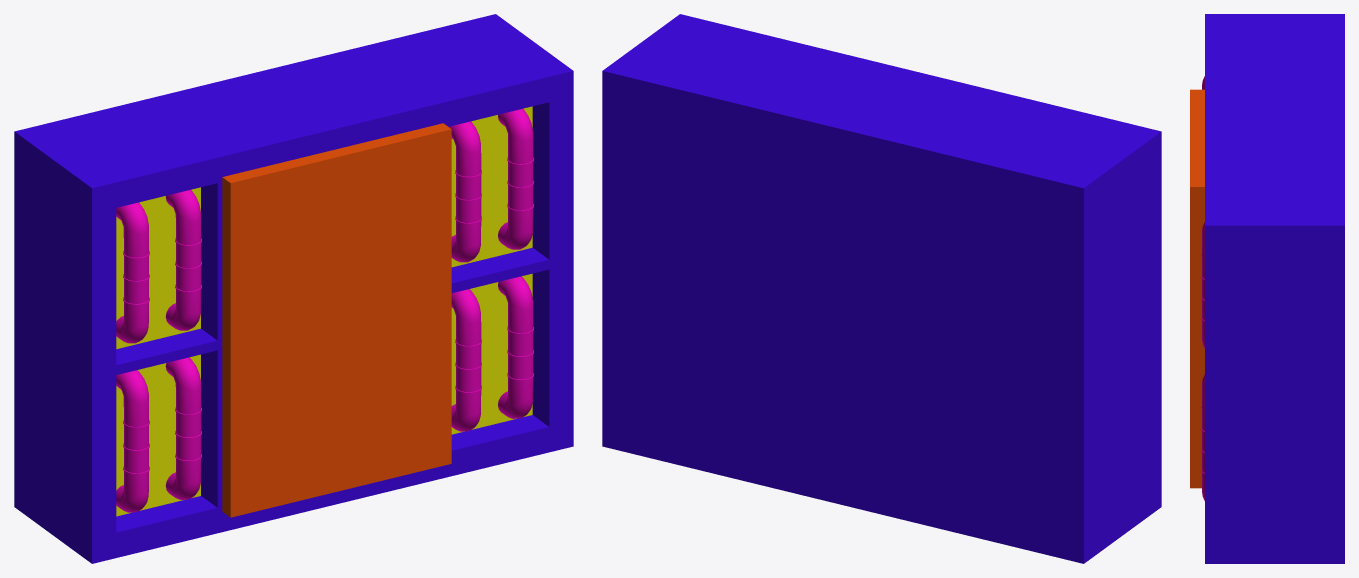
File: StoneDoorUVID.fbx
The picture shows the model from 3 angles, left to right: view 1: azimuth 30°, elevation 25°; view 2: azimuth 150°, elevation 25°; view 3: azimuth 270°, elevation 25°; orthographic projection. The views are drawn at different scales.
Visible parts, largest first — view 1: Cube, Pipe.007, Pipe.003, Pipe.005, Pipe.001, Pipe.002, Pipe.008, Pipe.006, Pipe.004; view 2: Cube; view 3: Cube, Pipe.005, Pipe.007.
Boxes of the visible parts, <box> form: Cube: <box>14,14,573,563</box>; Pipe.007: <box>498,276,534,418</box>; Pipe.003: <box>165,357,201,499</box>; Pipe.005: <box>498,108,534,249</box>; Pipe.001: <box>165,189,201,330</box>; Pipe.002: <box>116,370,149,512</box>; Pipe.008: <box>116,202,149,343</box>; Pipe.006: <box>451,289,481,431</box>; Pipe.004: <box>449,121,481,262</box>; Cube: <box>602,14,1161,563</box>; Cube: <box>1190,14,1344,563</box>; Pipe.005: <box>1201,245,1204,348</box>; Pipe.007: <box>1201,397,1204,500</box>.
Size of the model in its own units: 200 by 149 by 61.88.
